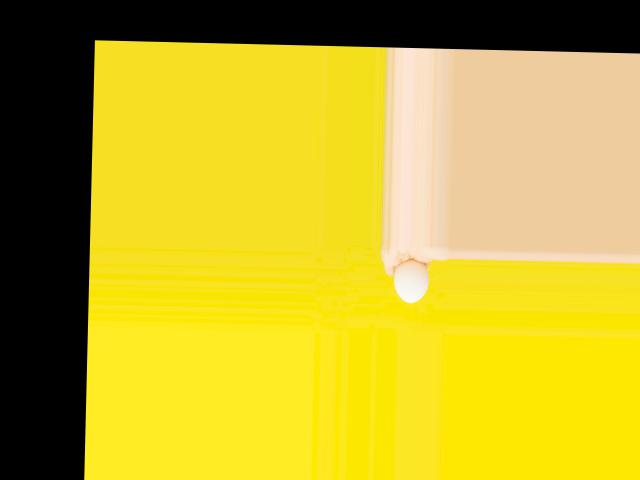egg: (393, 258, 427, 303)
